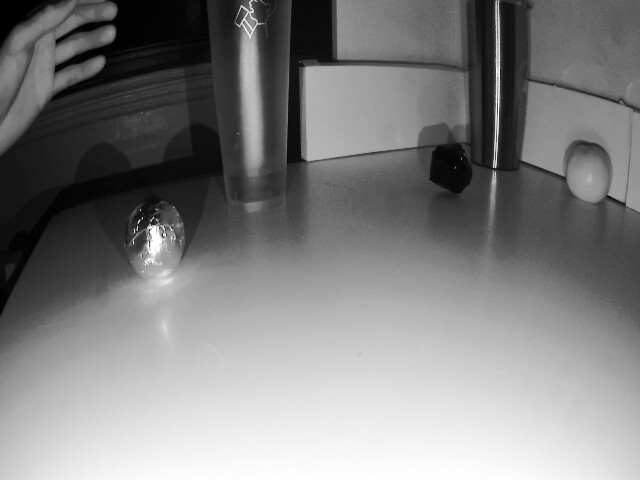black: (118, 201, 192, 281)
silver: (428, 135, 471, 195)
